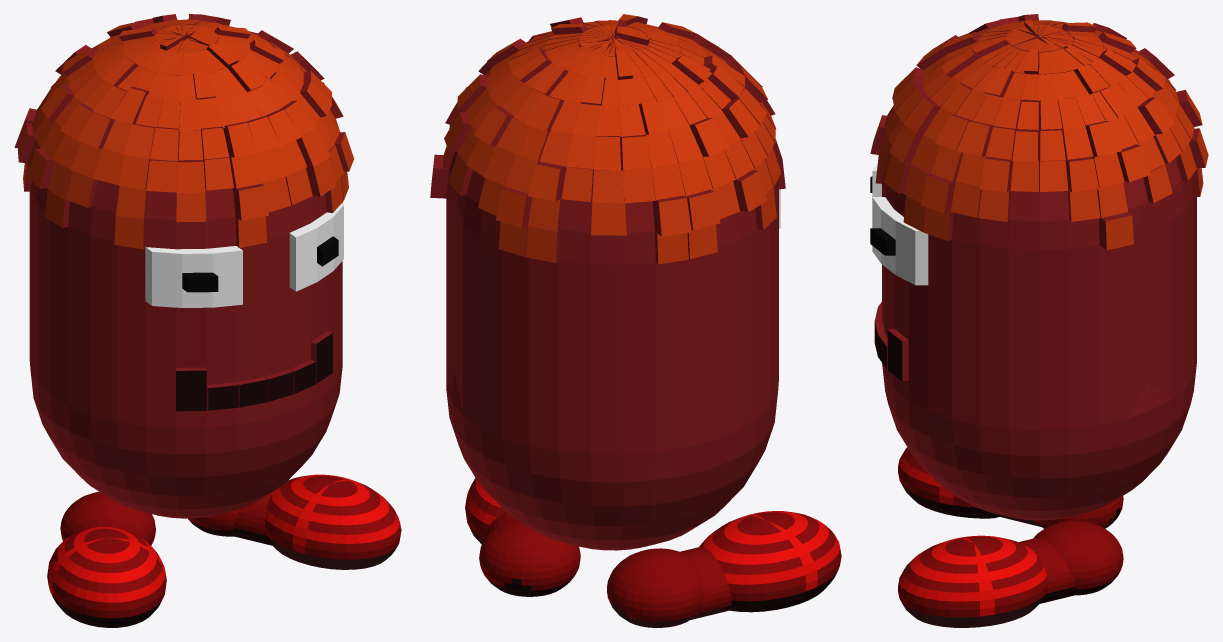
Rendered from Player.glb.
The picture shows the model from 3 angles, left to right: view 1: azimuth 30°, elevation 25°; view 2: azimuth 150°, elevation 25°; view 3: azimuth 270°, elevation 25°; orthographic projection. The views are drawn at different scales.
Parts seen in each view (by area): view 1: Body; view 2: Body; view 3: Body.
Boxes of the visible parts, <box> form: Body: <box>14,14,401,627</box>; Body: <box>430,14,841,627</box>; Body: <box>870,14,1208,627</box>.
Bounding box in the file's own units: 2.43 × 3.64 × 2.15.
